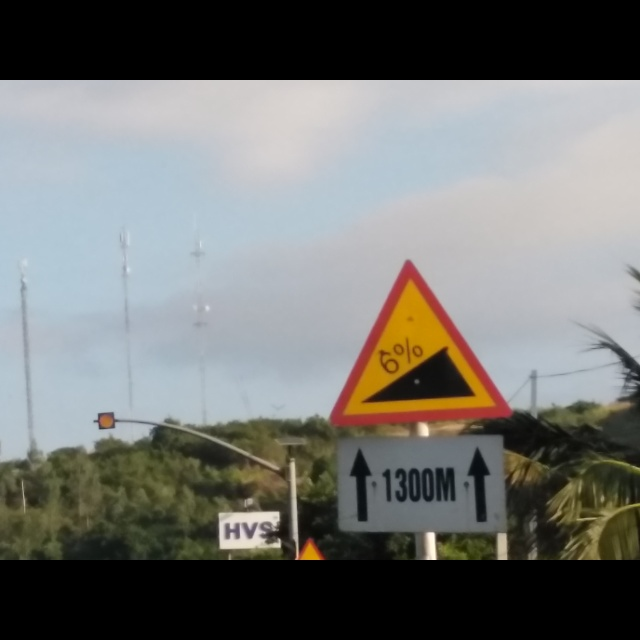Dốc lên nguy hiểm: (322, 258, 508, 431)
